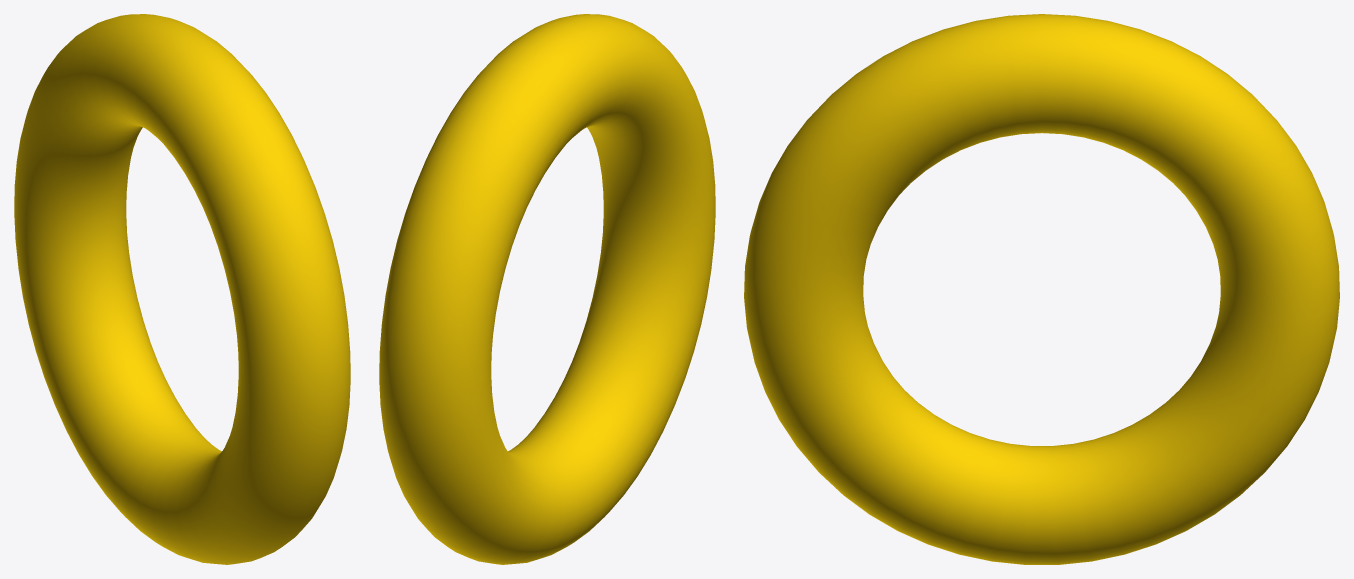
File: Ring.fbx
3 views of the same model, side by side, from view 1: azimuth 30°, elevation 25°; view 2: azimuth 150°, elevation 25°; view 3: azimuth 270°, elevation 25° (orthographic). The views are drawn at different scales.
Parts seen in each view (by area): view 1: Ring_LOD0; view 2: Ring_LOD0; view 3: Ring_LOD0.
Boxes of the visible parts, left/top/right/bottom form: Ring_LOD0: left=14, top=14, right=350, bottom=564; Ring_LOD0: left=379, top=14, right=715, bottom=564; Ring_LOD0: left=744, top=14, right=1339, bottom=564.
Size of what is drawn, in the model's own units: 0.0861 by 0.43 by 0.4301.
